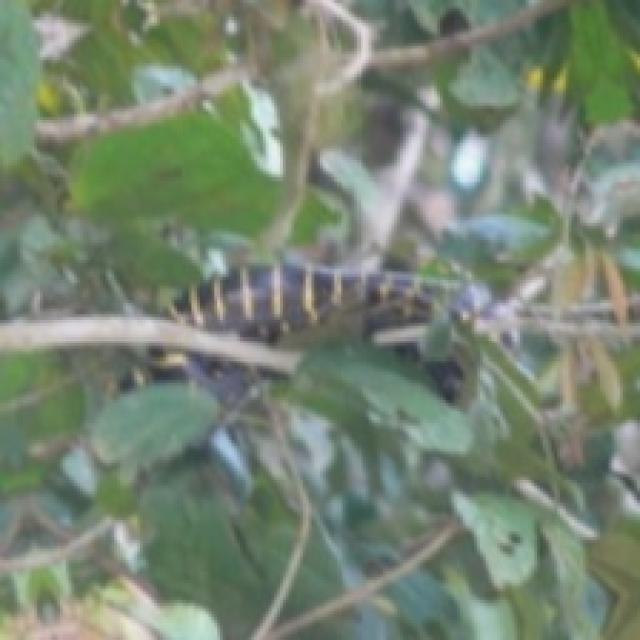mangrove cat snake: (166, 249, 494, 397)
